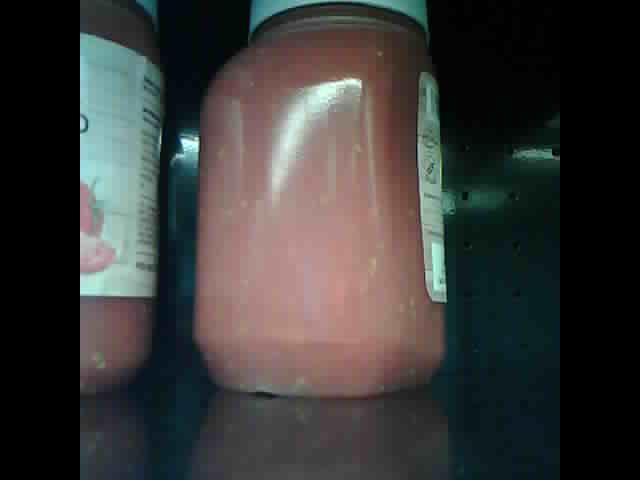tomate: (194, 3, 449, 396), (81, 3, 164, 394)
